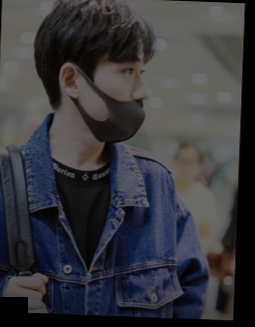mask_weared_incorrect: (82, 55, 149, 143)
